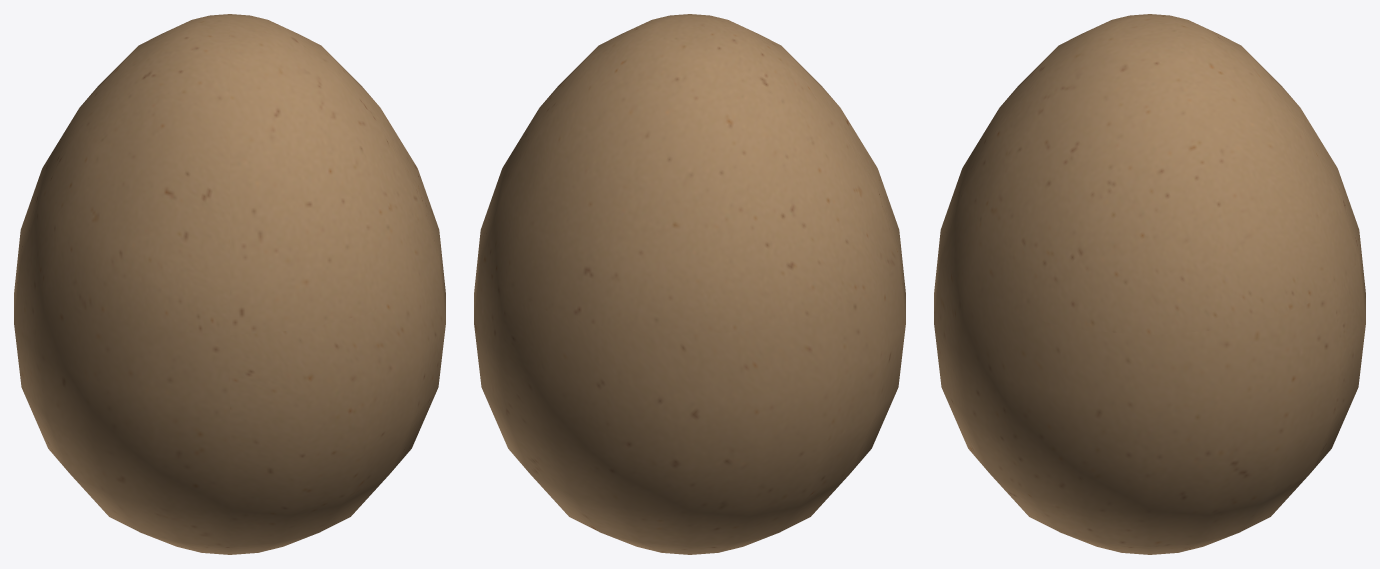
Rendered from chicken_egg_exp6.FBX.
3 views of the same model, side by side, from view 1: azimuth 30°, elevation 25°; view 2: azimuth 150°, elevation 25°; view 3: azimuth 270°, elevation 25° (orthographic).
Visible parts, largest first — view 1: chicken_egg_exp6; view 2: chicken_egg_exp6; view 3: chicken_egg_exp6.
Part boxes in pixels (bbox=[...]): chicken_egg_exp6: bbox=[14, 14, 445, 554]; chicken_egg_exp6: bbox=[474, 14, 905, 554]; chicken_egg_exp6: bbox=[934, 14, 1365, 554].
Bounding box in the file's own units: 8.17 × 10.48 × 8.04.
